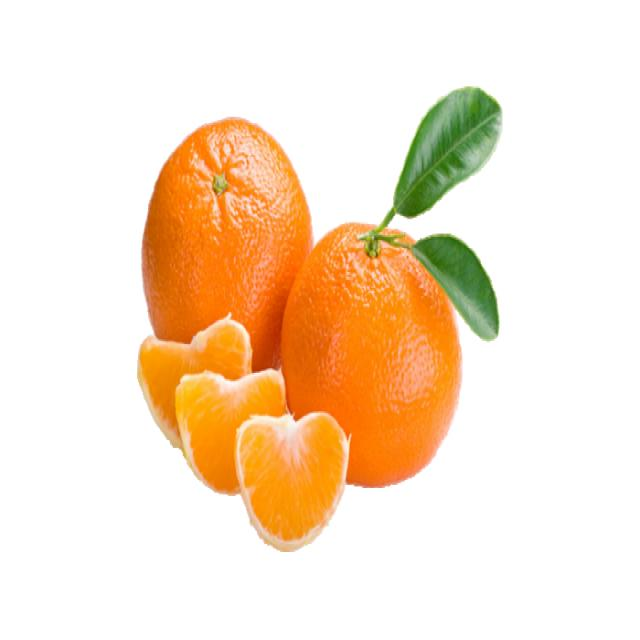10_tangerine: (280, 197, 486, 498), (139, 114, 317, 391), (133, 309, 256, 465), (236, 402, 350, 554), (174, 368, 287, 505)
